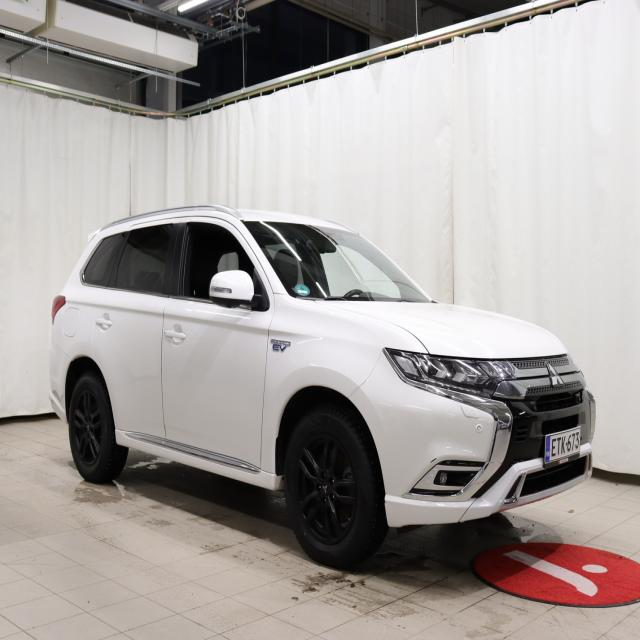light_vehicle: (48, 202, 596, 568)
